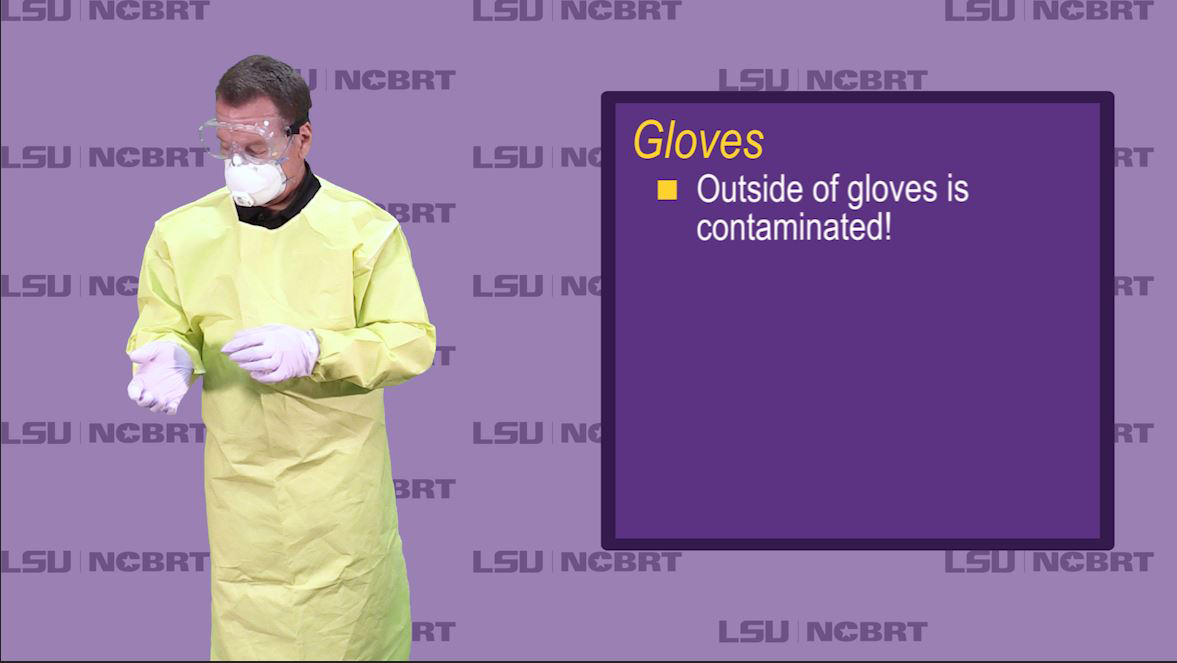Coverall: (177, 176, 414, 663)
Gloves: (219, 318, 328, 387), (116, 337, 199, 419)
Goggles: (194, 117, 299, 163)
with_mask: (207, 137, 299, 211)
